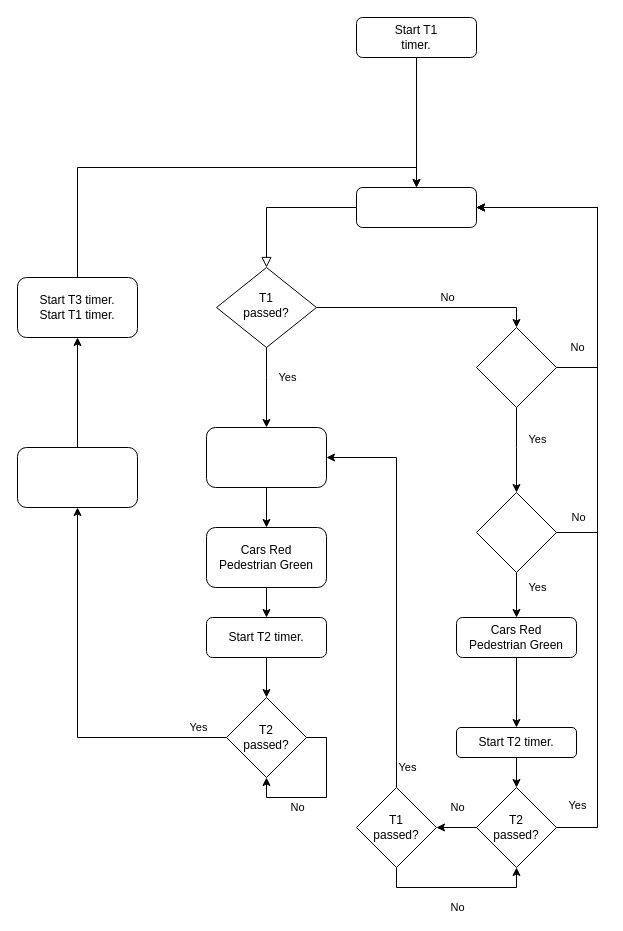
This 623x931 diagram has some shape labels left out. The shapes that lost their labels are listed below. From the top down, each one's centre as x and y in pixels, then its label:
At point (416, 207): "Cars Green".
At point (516, 367): "Button Pressed?".
At point (77, 477): "Tram Red Pedestrian Red".
At point (266, 457): "Tram green".
At point (516, 532): "T3 passed?".
